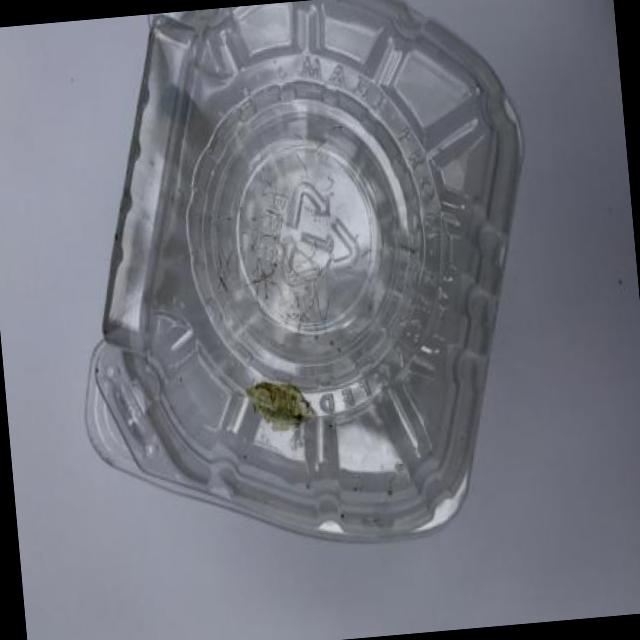Trash: (53, 0, 547, 560)
